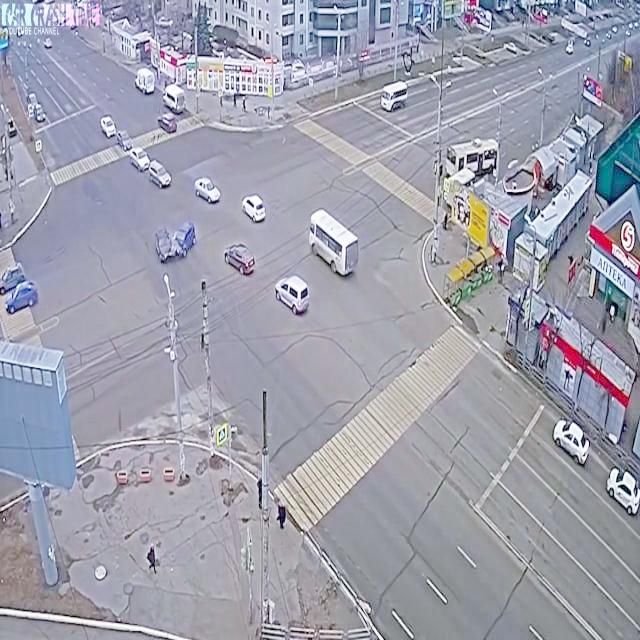Car: (553, 420, 590, 464), (606, 466, 639, 513), (274, 275, 308, 314), (166, 222, 194, 260), (195, 174, 223, 210), (223, 243, 255, 274), (152, 222, 175, 262), (242, 192, 266, 226), (29, 101, 49, 128), (157, 114, 177, 134), (100, 115, 117, 138)
Minor Accident: (150, 222, 192, 263)
Not Accident: (220, 240, 318, 334), (188, 147, 274, 236), (0, 262, 40, 316), (128, 145, 174, 190), (112, 128, 154, 172), (102, 115, 134, 152), (26, 92, 48, 123), (576, 32, 593, 46), (8, 118, 18, 138), (565, 40, 574, 54), (44, 38, 52, 48)
